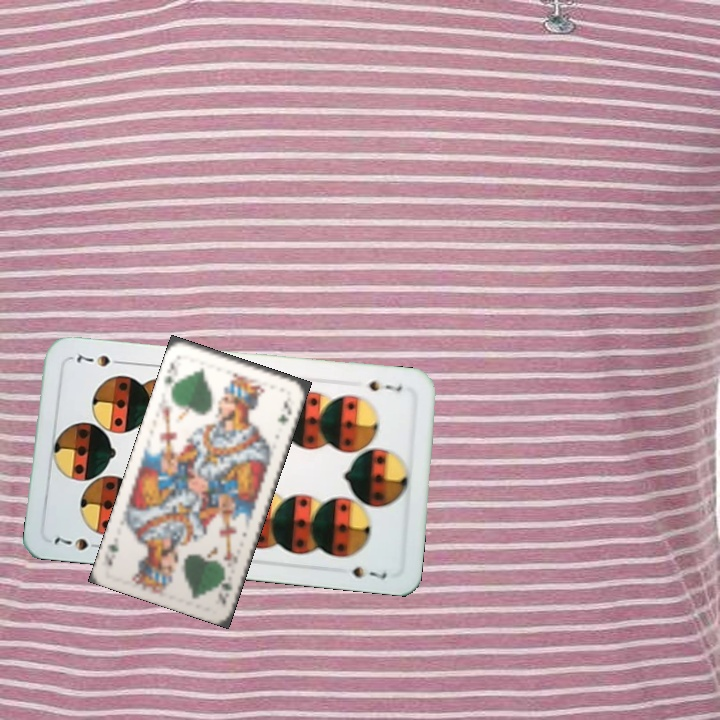GK: (159, 354, 181, 393), (214, 568, 235, 607)
S7: (50, 532, 107, 553), (365, 376, 404, 395)
